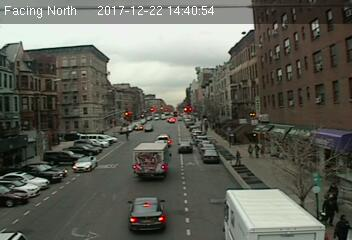car: (125, 194, 170, 232), (71, 155, 99, 174), (176, 140, 195, 153), (203, 149, 220, 163)
truck: (224, 185, 320, 240), (133, 142, 172, 182)
